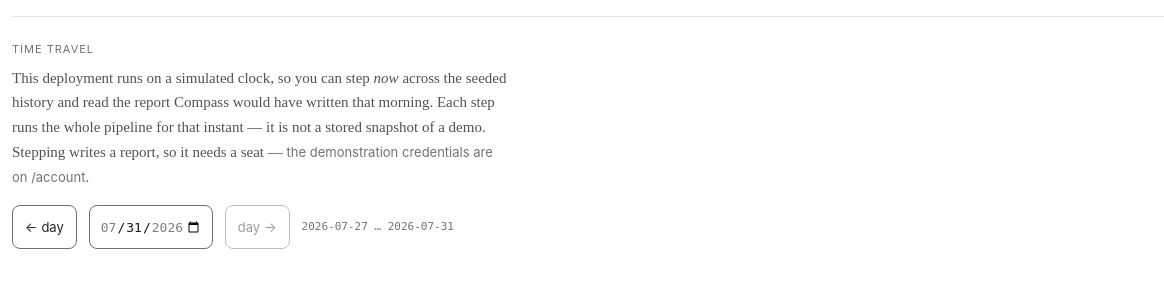
Scenario: a refused step leaves the control on the day that is on screen › refuses to navigate anywhere but an archive permalink
Click the button "← day".
click(44, 227)  # box [12, 205, 77, 249]
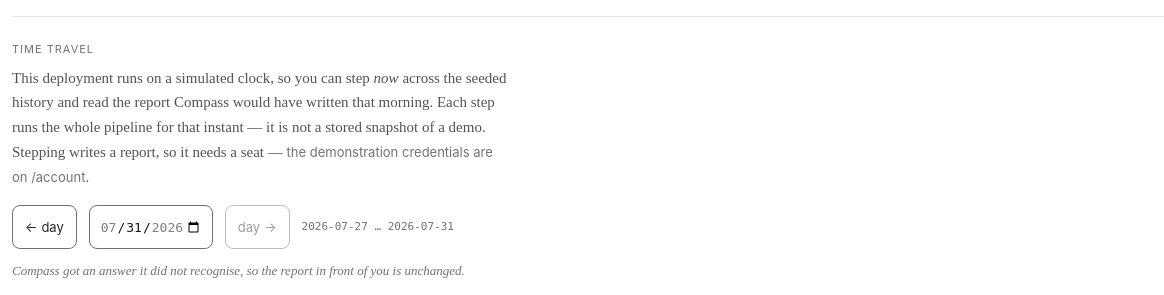
expect the date field holds "2026-07-31": met, box [89, 205, 213, 249]
expect the message shows "did not recognise": met, box [12, 263, 465, 278]
